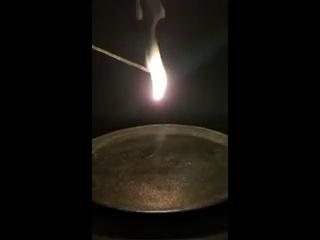Fire: (141, 25, 170, 102)
